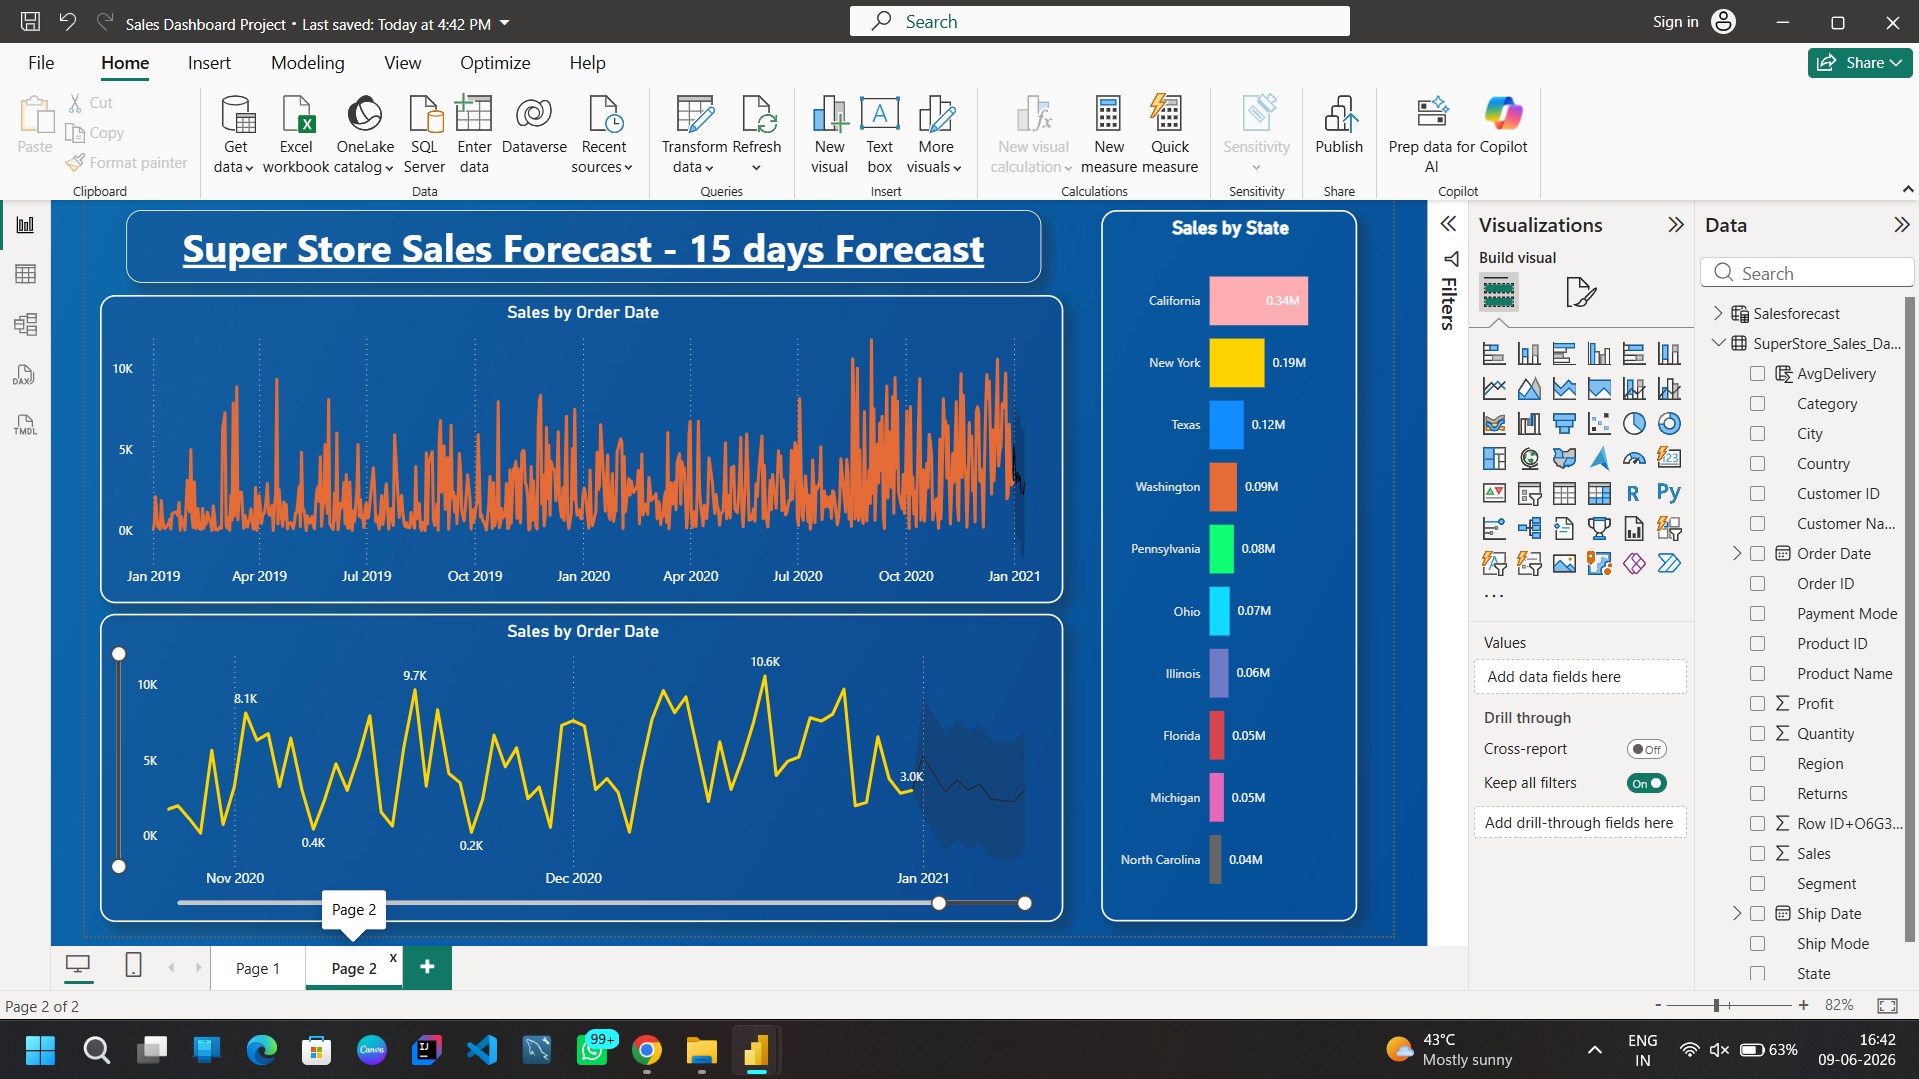

What the dashboard file says about the page in this screenshot:
{"tool":"powerbi","page":{"name":"Page 2","canvas":[1280,720],"ordinal":1},"visuals":[{"type":"lineChart","title":"Sales by Order Date","fields":{"Y":["Sum(SuperStore_Sales_Dataset.Sales)"],"Category":["SuperStore_Sales_Dataset.Order Date"]},"box":[15,92.5,942.5,301.2],"z":0},{"type":"lineChart","title":"Sales by Order Date","fields":{"Y":["Sum(SuperStore_Sales_Dataset.Sales)"],"Category":["SuperStore_Sales_Dataset.Order Date"]},"box":[15,405,942.5,301.2],"z":1000},{"type":"textbox","box":[40,10,895,71.2],"z":2000},{"type":"clusteredBarChart","title":"Sales by State","fields":{"Y":["Sum(SuperStore_Sales_Dataset.Sales)"],"Category":["SuperStore_Sales_Dataset.State"]},"box":[993.8,10,250,696.2],"z":3000}]}

Visuals, with their boxes on the page's 1280x720 design canvas (x1, y1, x2, y2). These are canvas units, not pixel positions in the 1919x1079 screenshot, which may show the page scaled, cropped or inside an application window:
"Sales by Order Date" lineChart: [15,92,958,394]
"Sales by Order Date" lineChart: [15,405,958,706]
textbox: [40,10,935,81]
"Sales by State" clusteredBarChart: [994,10,1244,706]
